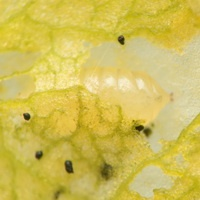insect: (79, 66, 143, 97)
